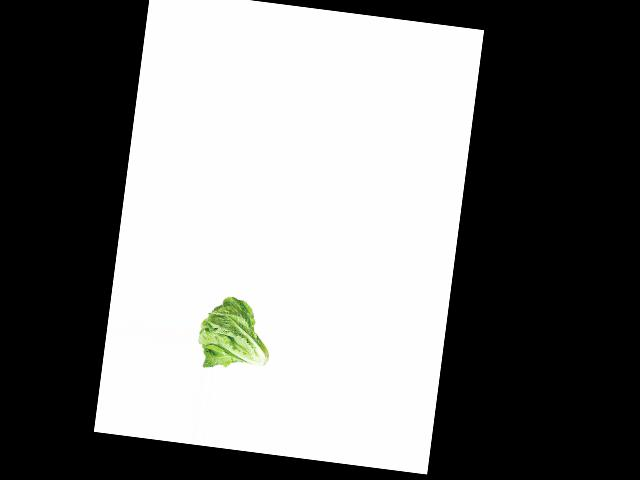lettuce: (194, 292, 279, 374)
